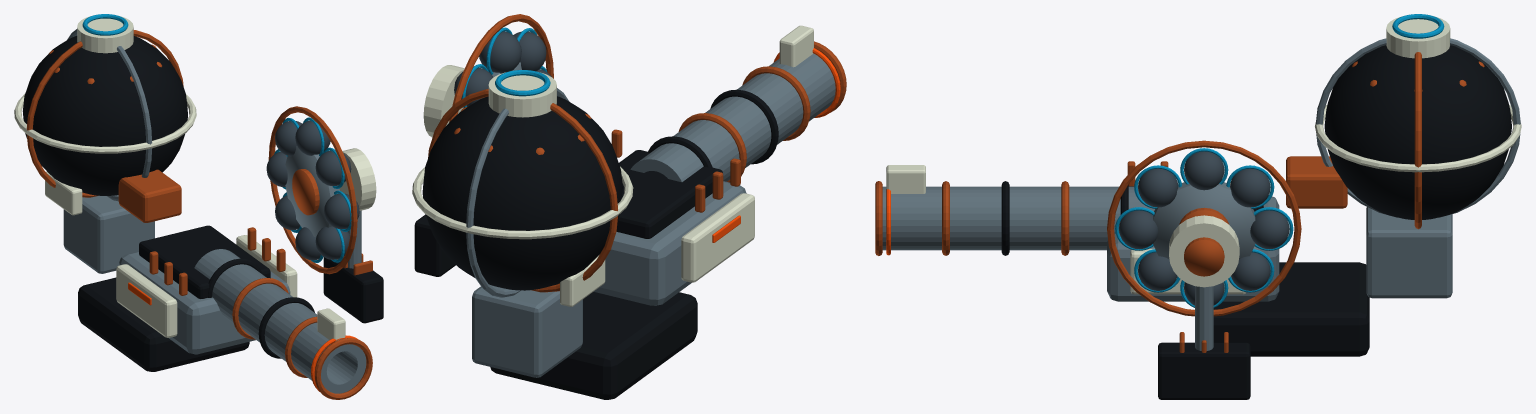
File: M01-017_rapid_ball_thrower.obj
3 renders of one model, left to right at view 1: azimuth 30°, elevation 25°; view 2: azimuth 150°, elevation 25°; view 3: azimuth 270°, elevation 25°, orthographic. The views are drawn at different scales.
Parts seen in each view (by area): view 1: M01-017_Spherical_hopper, M01-017_Actual_hollow_bore, M01-017_Socket_foot, M01-017_Hopper_pedestal, M01-017_Receiver, M01-017_Receiver_top, M01-017_Bearing_pedestal, M01-017_Feed_neck, M01-017_Side_ceramic_-1, M01-017_Rotor_outer_guard, M01-017_Hopper_equator, M01-017_Rotor_disc (+23 smaller); view 2: M01-017_Spherical_hopper, M01-017_Socket_foot, M01-017_Actual_hollow_bore, M01-017_Hopper_pedestal, M01-017_Receiver, M01-017_Receiver_top, M01-017_Side_ceramic_-1, M01-017_Hopper_equator, M01-017_Hopper_meridian_1, M01-017_Hopper_fill_cap, M01-017_Hopper_meridian_2, M01-017_Bearing_outer (+14 smaller); view 3: M01-017_Spherical_hopper, M01-017_Actual_hollow_bore, M01-017_Socket_foot, M01-017_Hopper_pedestal, M01-017_Bearing_pedestal, M01-017_Rotor_outer_guard, M01-017_Rotor_disc, M01-017_Bearing_outer, M01-017_Feed_neck, M01-017_Hopper_meridian_2, M01-017_Receiver, M01-017_Hopper_equator (+18 smaller).
Boxes of the visible parts, bbox=[...] form: M01-017_Spherical_hopper: bbox=[22, 36, 187, 195]; M01-017_Actual_hollow_bore: bbox=[194, 249, 366, 393]; M01-017_Socket_foot: bbox=[78, 277, 249, 371]; M01-017_Hopper_pedestal: bbox=[63, 195, 154, 273]; M01-017_Receiver: bbox=[119, 251, 290, 354]; M01-017_Receiver_top: bbox=[139, 225, 270, 298]; M01-017_Bearing_pedestal: bbox=[323, 257, 383, 323]; M01-017_Feed_neck: bbox=[118, 169, 181, 222]; M01-017_Side_ceramic_-1: bbox=[116, 264, 177, 337]; M01-017_Rotor_outer_guard: bbox=[268, 106, 357, 274]; M01-017_Hopper_equator: bbox=[14, 94, 196, 153]; M01-017_Rotor_disc: bbox=[285, 146, 339, 236]; M01-017_Spherical_hopper: bbox=[422, 96, 622, 290]; M01-017_Socket_foot: bbox=[490, 291, 697, 399]; M01-017_Actual_hollow_bore: bbox=[630, 53, 835, 182]; M01-017_Hopper_pedestal: bbox=[472, 285, 582, 377]; M01-017_Receiver: bbox=[594, 181, 746, 305]; M01-017_Receiver_top: bbox=[616, 150, 722, 238]; M01-017_Side_ceramic_-1: bbox=[681, 193, 754, 282]; M01-017_Hopper_equator: bbox=[412, 166, 633, 239]; M01-017_Hopper_meridian_1: bbox=[428, 89, 617, 292]; M01-017_Hopper_fill_cap: bbox=[488, 72, 556, 117]; M01-017_Hopper_meridian_2: bbox=[466, 88, 569, 297]; M01-017_Bearing_outer: bbox=[423, 65, 464, 137]; M01-017_Spherical_hopper: bbox=[1324, 45, 1511, 219]; M01-017_Actual_hollow_bore: bbox=[882, 186, 1154, 250]; M01-017_Socket_foot: bbox=[1213, 262, 1369, 356]; M01-017_Hopper_pedestal: bbox=[1366, 207, 1452, 298]; M01-017_Bearing_pedestal: bbox=[1158, 342, 1250, 399]; M01-017_Rotor_outer_guard: bbox=[1107, 140, 1301, 316]; M01-017_Rotor_disc: bbox=[1153, 182, 1255, 259]; M01-017_Bearing_outer: bbox=[1169, 215, 1239, 287]; M01-017_Feed_neck: bbox=[1286, 156, 1347, 208]; M01-017_Hopper_meridian_2: bbox=[1315, 38, 1520, 217]; M01-017_Receiver: bbox=[1107, 196, 1279, 301]; M01-017_Hopper_equator: bbox=[1315, 104, 1521, 172].
Size of the model in its own units: 1.45 by 1.56 by 2.93.
